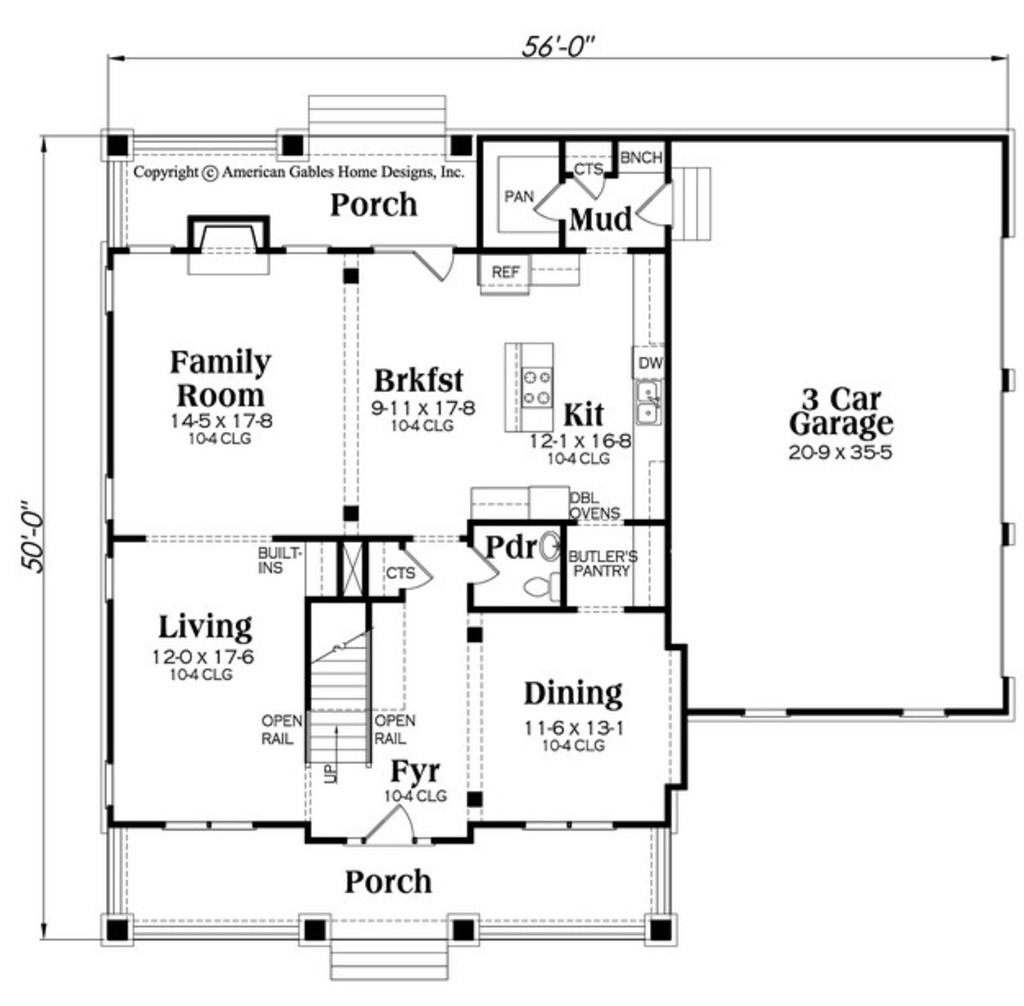door: (351, 807, 432, 847), (393, 541, 439, 602), (457, 535, 503, 596), (409, 230, 456, 288), (632, 180, 675, 235), (526, 172, 564, 230), (568, 164, 612, 208)
kitchen_bar: (481, 332, 564, 447)
large_sink: (526, 561, 565, 600)
small_sink: (525, 527, 575, 567)
stairs: (298, 580, 376, 771)
twin_sink: (626, 378, 673, 427)
window: (521, 814, 607, 836), (100, 555, 126, 605), (743, 700, 789, 728), (903, 703, 950, 728), (164, 817, 262, 828), (100, 475, 121, 524)
